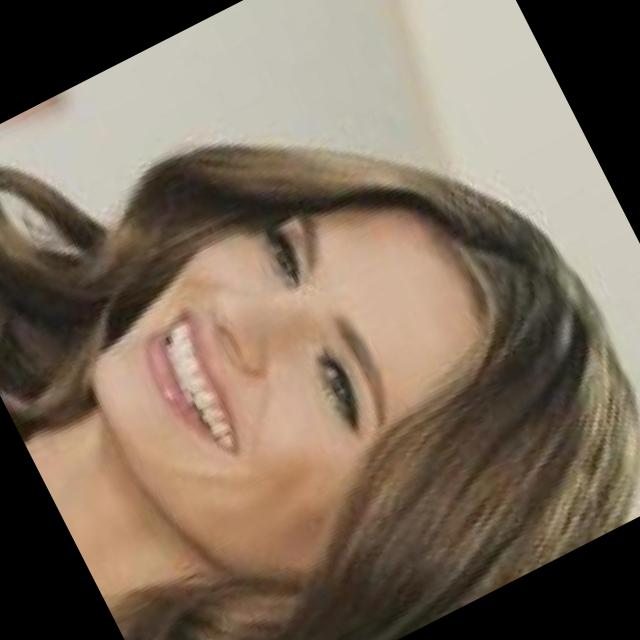bareface: (57, 94, 640, 640)
